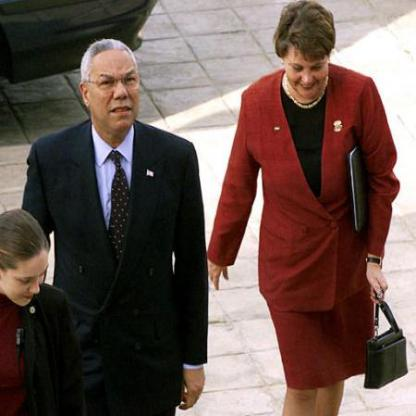face: (89, 43, 141, 133), (2, 234, 51, 308), (286, 21, 330, 102)
